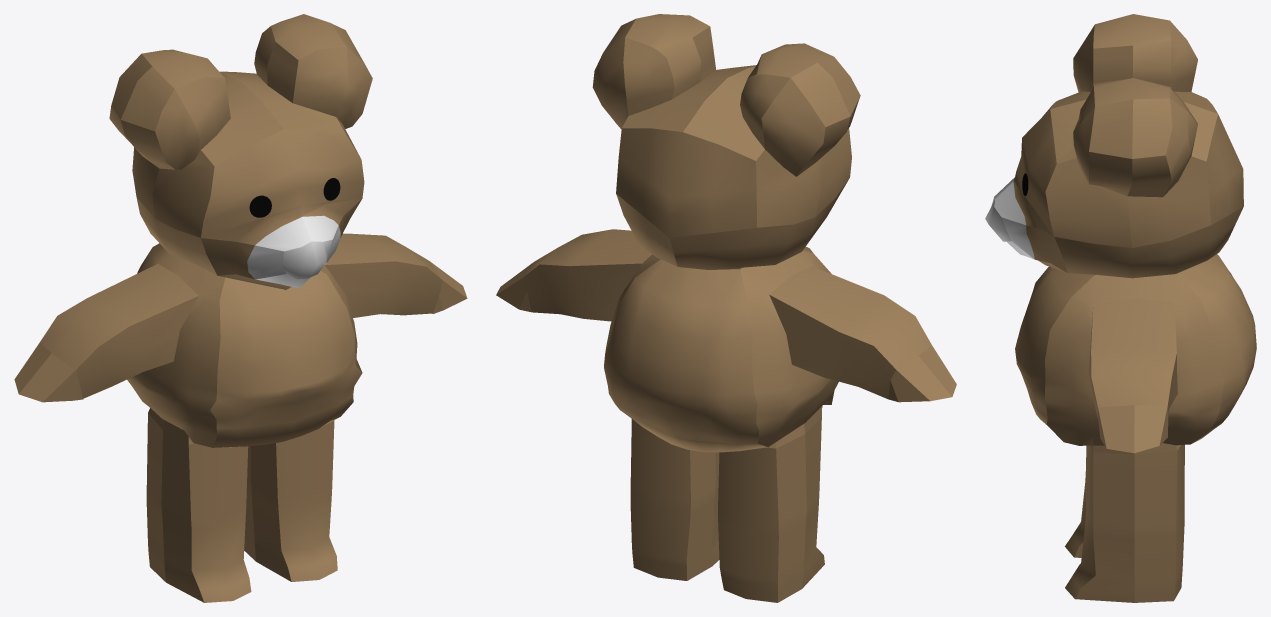
Rendered from BabaBear.fbx.
The picture shows the model from 3 angles, left to right: view 1: azimuth 30°, elevation 25°; view 2: azimuth 150°, elevation 25°; view 3: azimuth 270°, elevation 25°; orthographic projection. The views are drawn at different scales.
Visible parts, largest first — view 1: pCube1, pCylinder1; view 2: pCube1; view 3: pCube1.
Part boxes in pixels (x1,y1,x2,y2): pCube1: [14, 14, 467, 602]; pCylinder1: [249, 178, 340, 217]; pCube1: [496, 14, 956, 602]; pCube1: [985, 14, 1256, 602].
Size of the model in its own units: 104 by 118 by 56.25.
